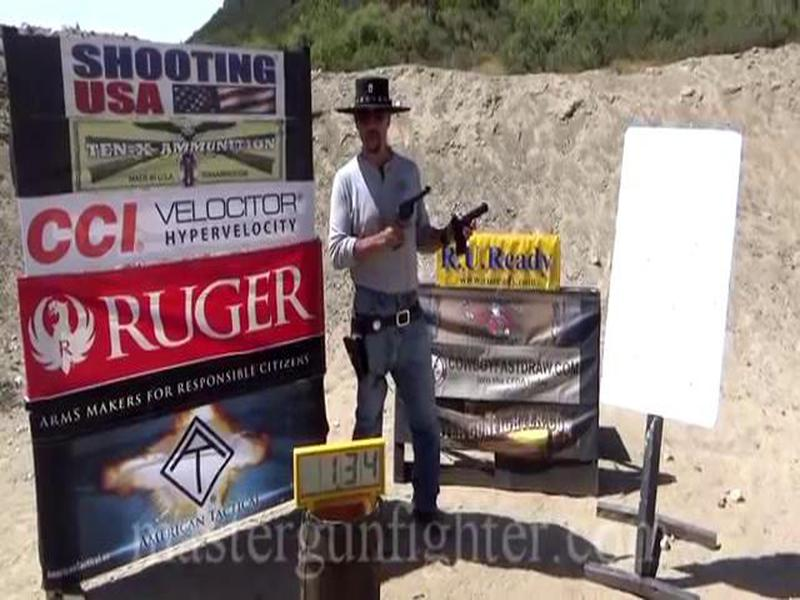Pistola: (449, 200, 495, 260)
Revolver: (382, 184, 437, 251)
